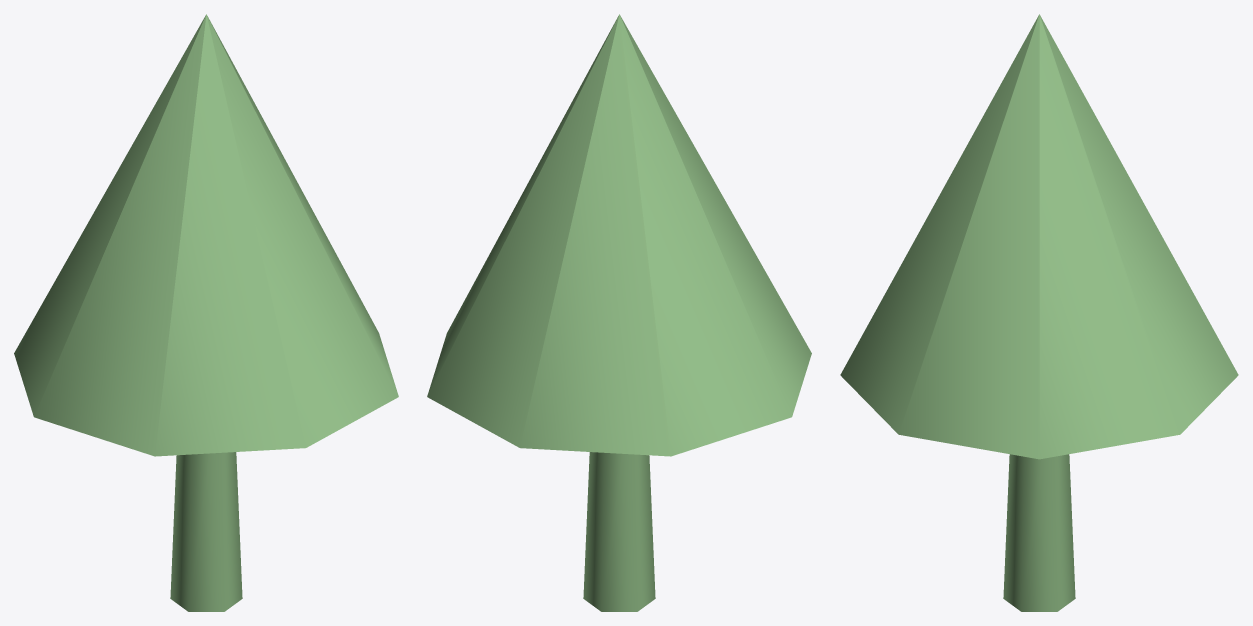
The model's file is forest-tree.gltf.
3 renders of one model, left to right at view 1: azimuth 30°, elevation 25°; view 2: azimuth 150°, elevation 25°; view 3: azimuth 270°, elevation 25°, orthographic.
Visible parts, largest first — view 1: Tree; view 2: Tree; view 3: Tree.
Part boxes in pixels (x1,y1,x2,y2): Tree: [14, 14, 398, 611]; Tree: [427, 14, 811, 611]; Tree: [840, 14, 1238, 611].
Size of the model in its own units: 2.1 by 3.4 by 2.1.
